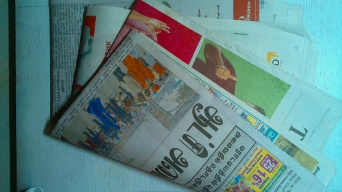p: (39, 2, 328, 192)
